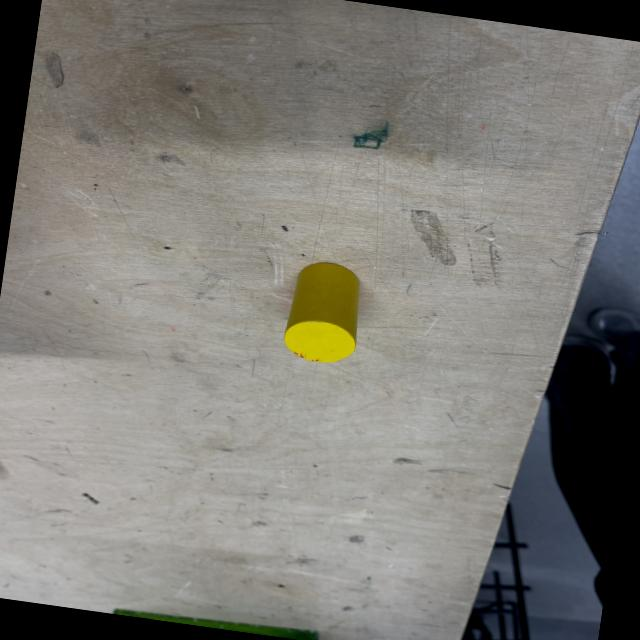yellow_cylinder: (282, 258, 366, 368)
